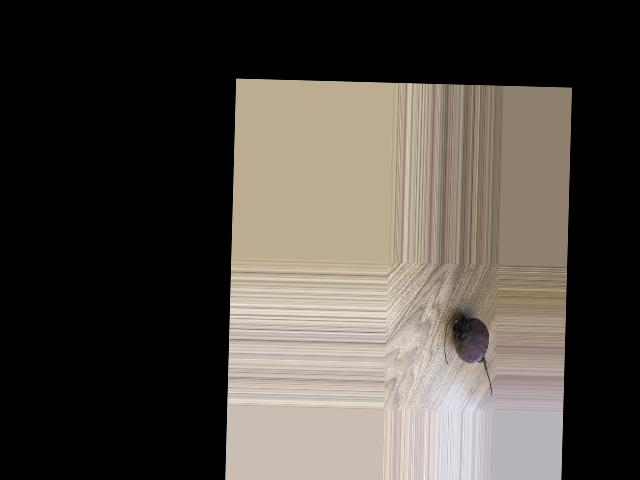beet: (443, 315, 494, 395)
